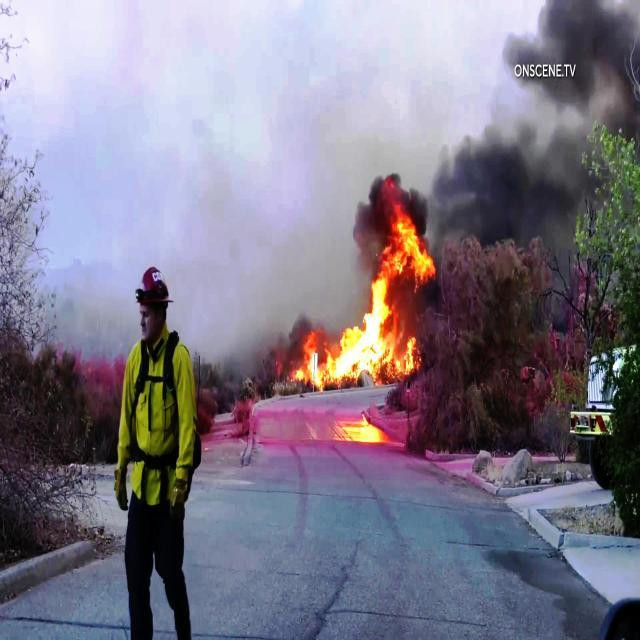Fire: (283, 174, 438, 396)
Smoke: (418, 0, 640, 254)
